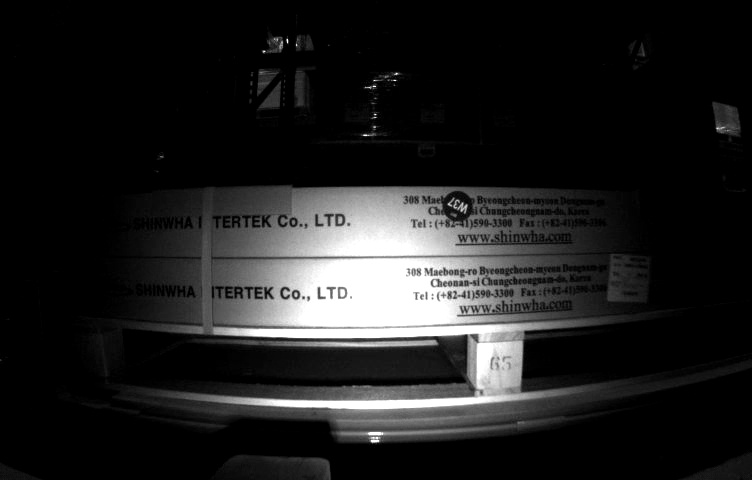True Barcode: (609, 252, 651, 302)
